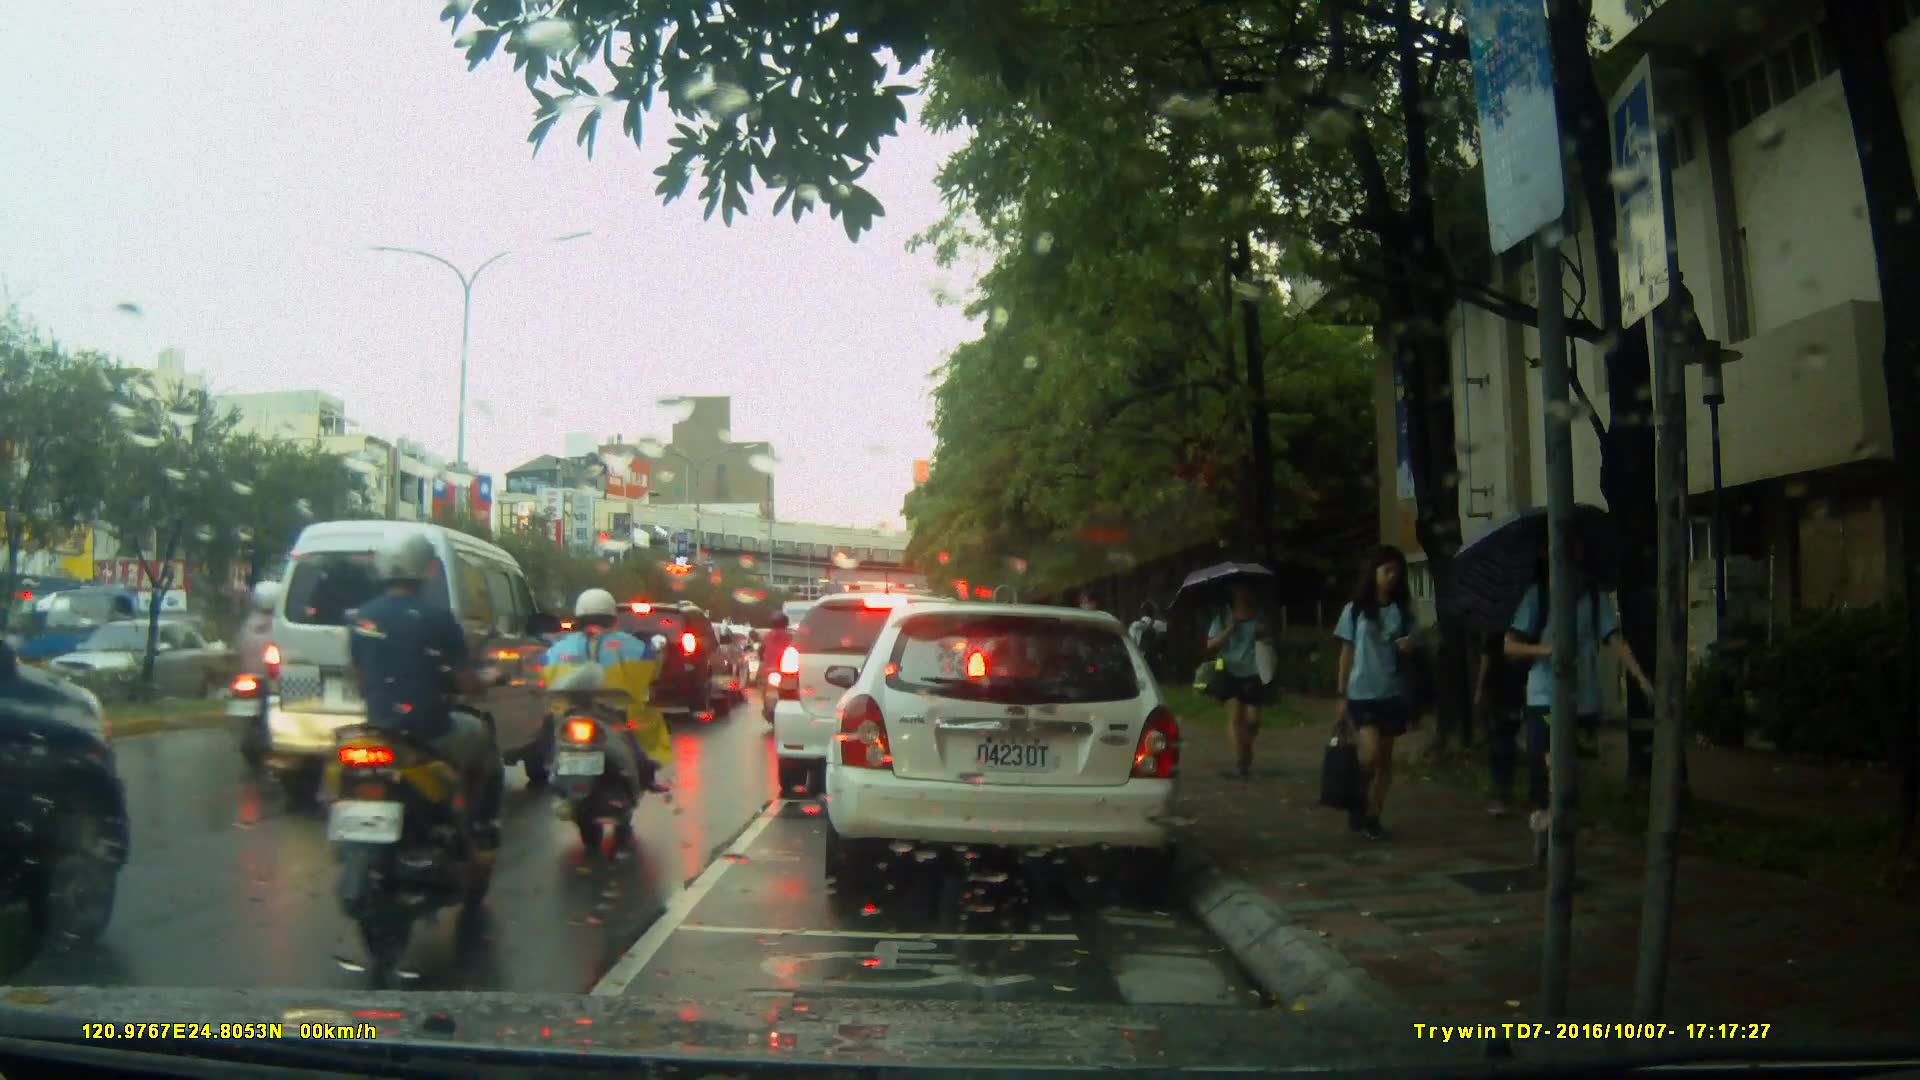pedestrian: (1488, 516, 1639, 902), (1323, 548, 1428, 861), (1481, 540, 1586, 840), (1192, 574, 1274, 787)
rider: (316, 522, 507, 949), (544, 590, 673, 848), (753, 606, 801, 727)
vehicle: (815, 593, 1204, 909), (257, 517, 554, 814), (770, 590, 994, 802), (578, 603, 737, 725)
